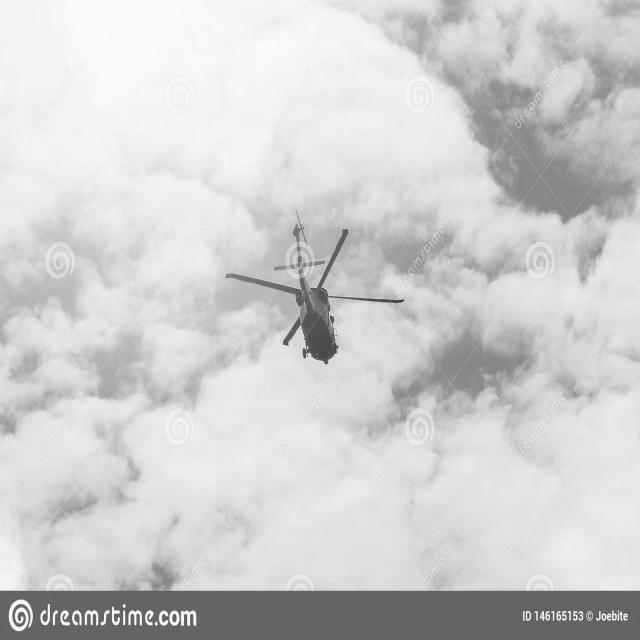helikopter: (222, 217, 400, 385)
